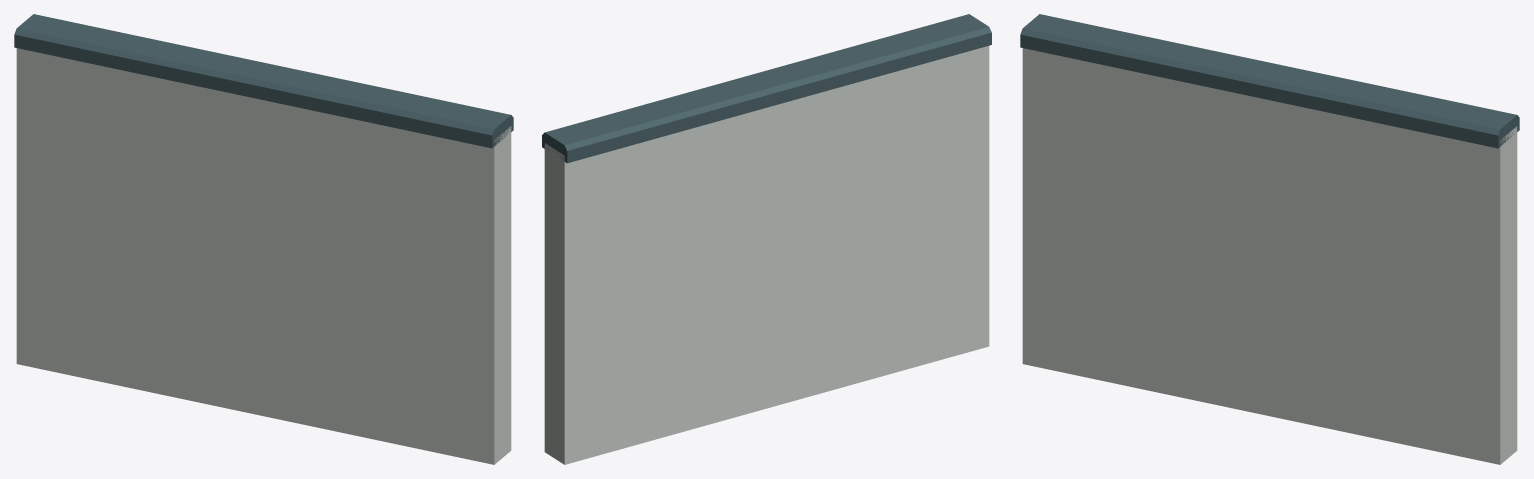
The model's file is halfwall_26_port.glb.
The picture shows the model from 3 angles, left to right: view 1: azimuth 90°, elevation 25°; view 2: azimuth 150°, elevation 25°; view 3: azimuth 270°, elevation 25°; orthographic projection. The views are drawn at different scales.
Visible parts, largest first — view 1: Seamless solid halfwall.002, Seamless top cap.002; view 2: Seamless solid halfwall.002, Seamless top cap.002; view 3: Seamless solid halfwall.002, Seamless top cap.002.
Part boxes in pixels (x1,y1,x2,y2): Seamless solid halfwall.002: (16, 48, 511, 464); Seamless top cap.002: (14, 14, 513, 148); Seamless solid halfwall.002: (544, 46, 989, 464); Seamless top cap.002: (542, 14, 991, 163); Seamless solid halfwall.002: (1022, 48, 1517, 464); Seamless top cap.002: (1020, 14, 1519, 148).
Size of the model in its own units: 0.5894 by 0.775 by 1.04.
